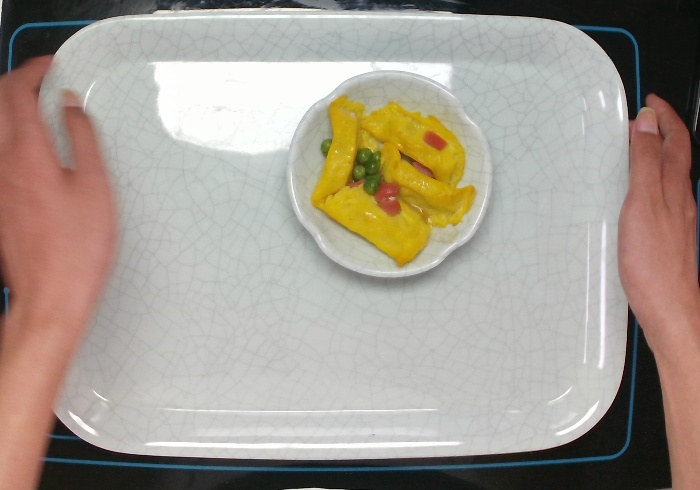JYsf-Ao_Yuan_Wan: (284, 68, 495, 280)
